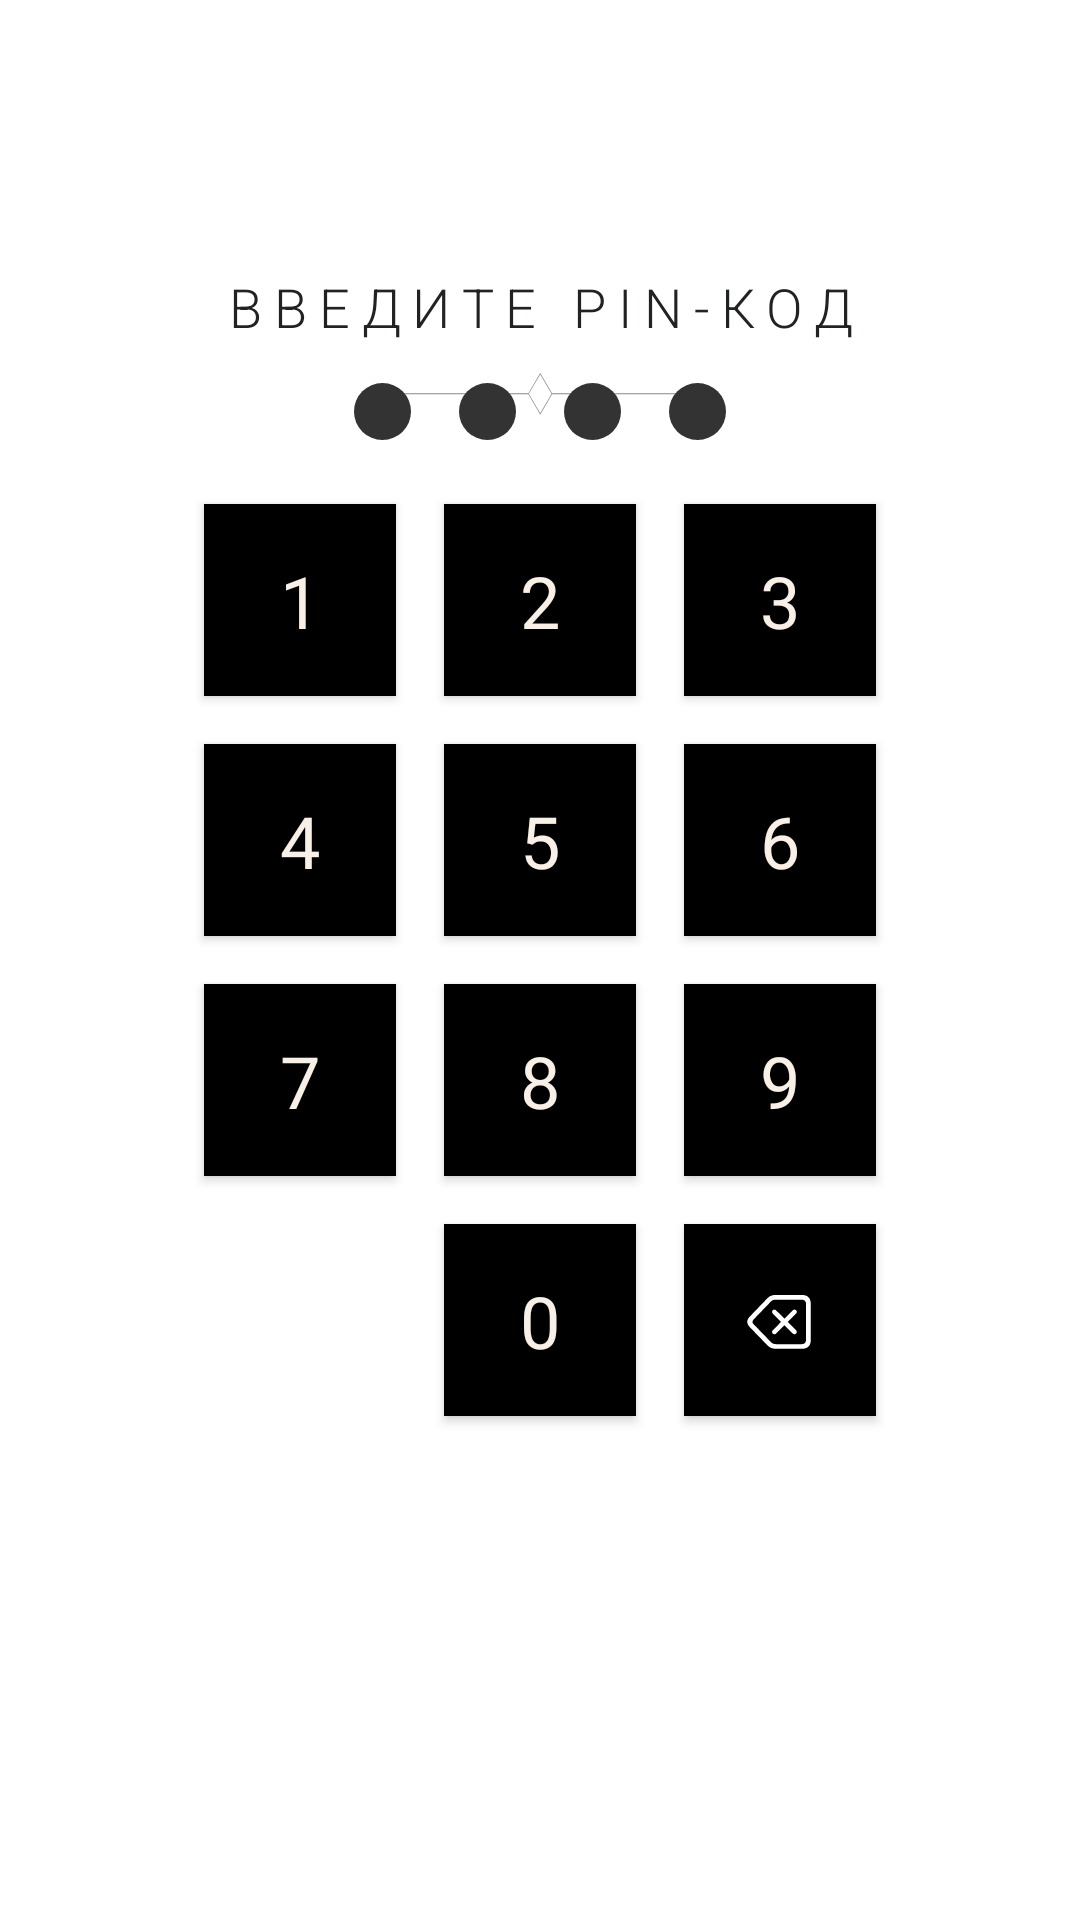

Icons on this 1080px×1920px Android screen, each with the point to tap as (x,y):
delete: (780,1320)
